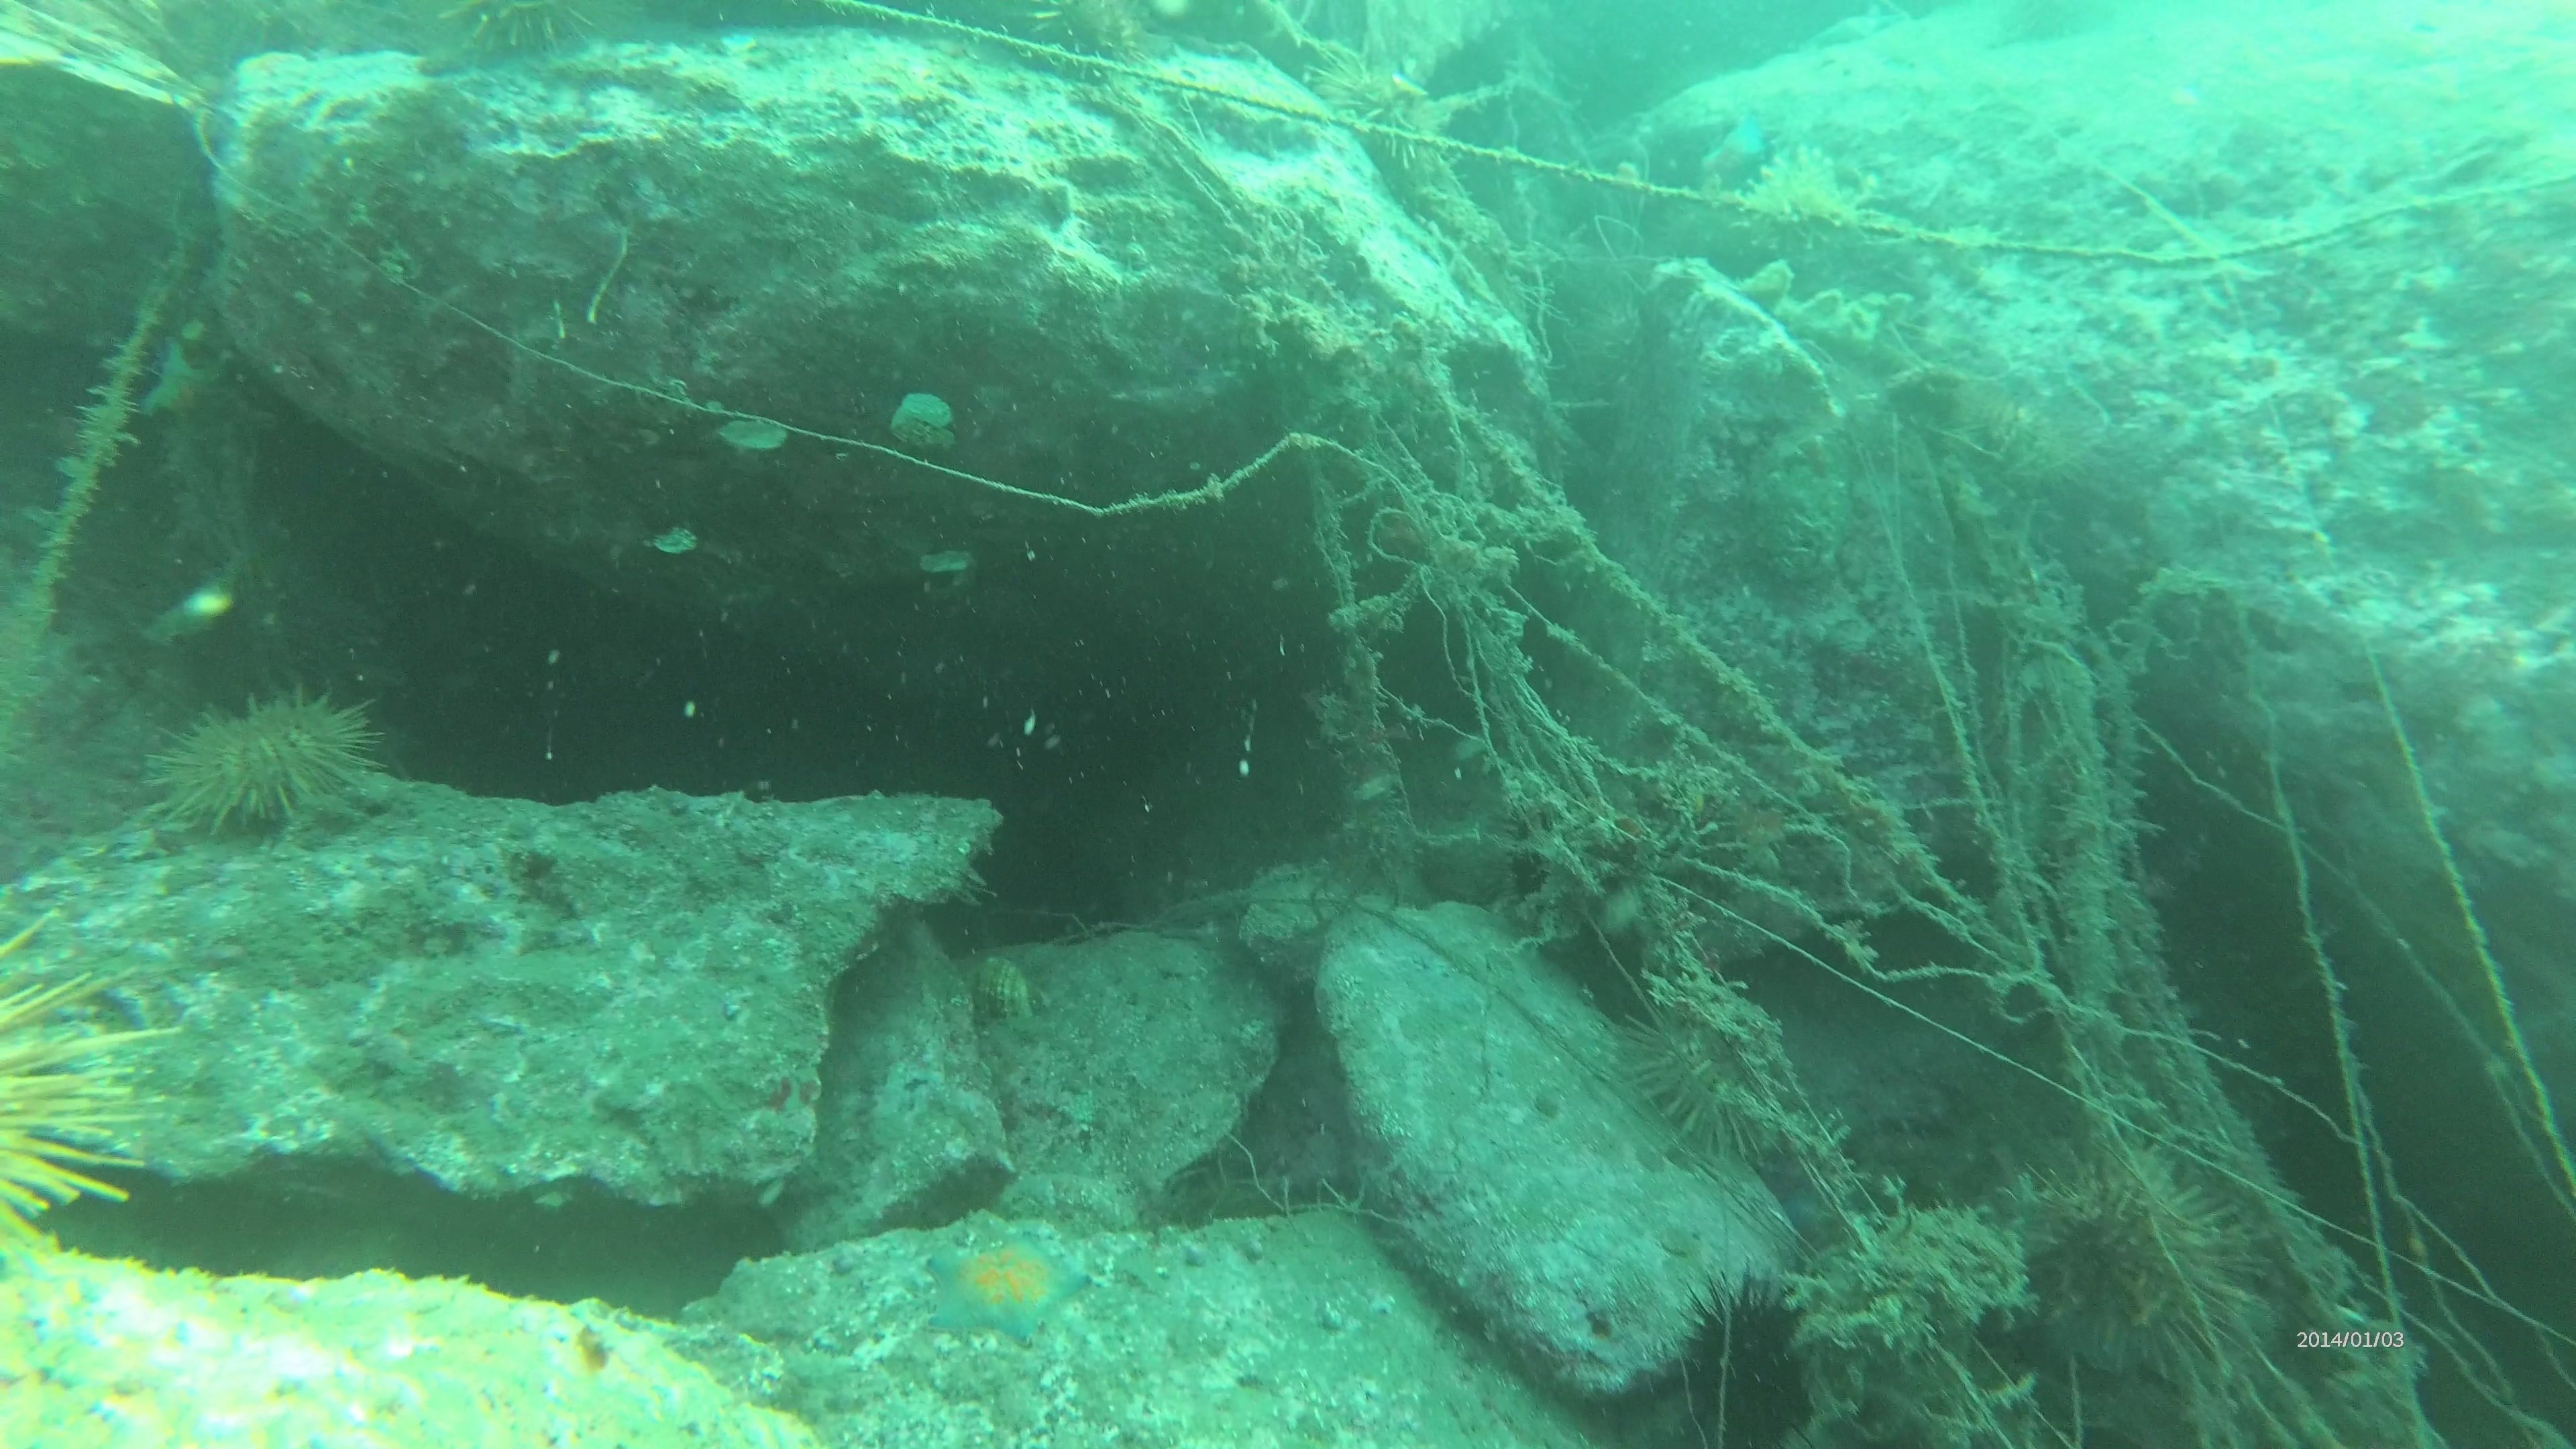echinus: (1999, 1139, 2265, 1385), (0, 927, 175, 1260), (143, 678, 387, 844), (1608, 964, 1801, 1162), (1665, 1270, 1833, 1445), (1293, 35, 1461, 186), (433, 0, 609, 73)
holothurian: (1727, 143, 1886, 251)
starfish: (913, 1221, 1097, 1352), (1691, 106, 1785, 200)
